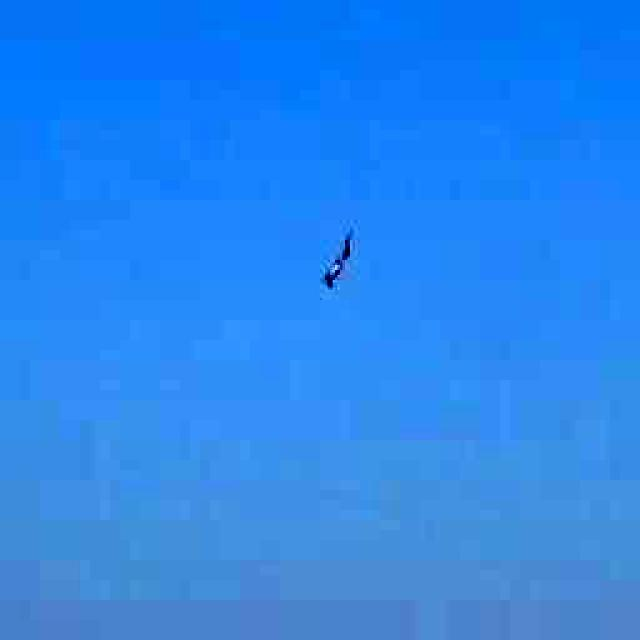bird: (304, 218, 369, 300)
